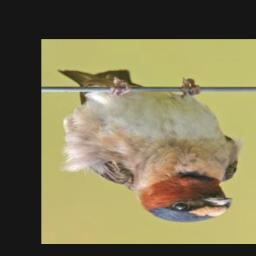Swallow: (56, 68, 245, 223)
